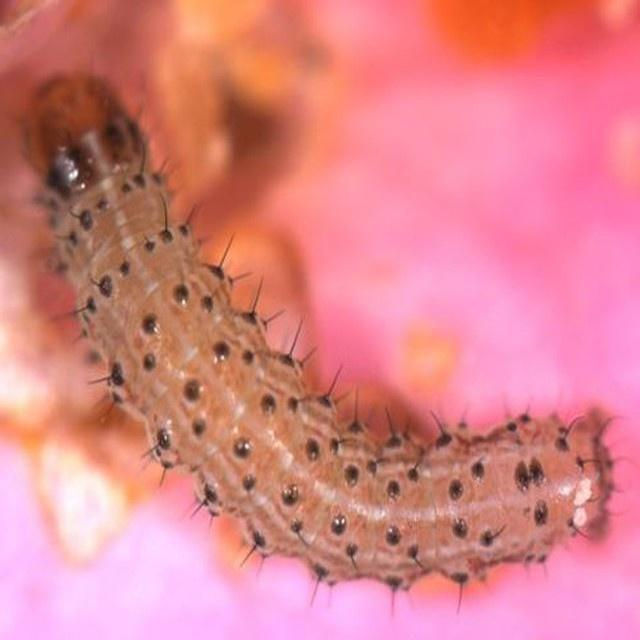Plaga: (13, 65, 625, 599)
